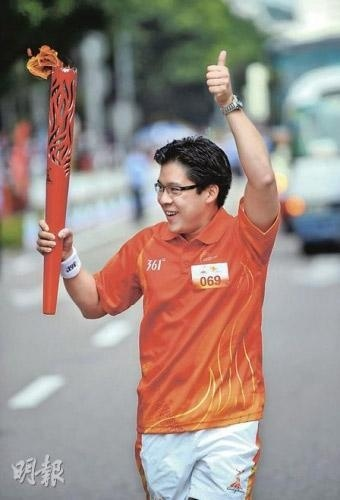fire: (25, 41, 63, 77)
